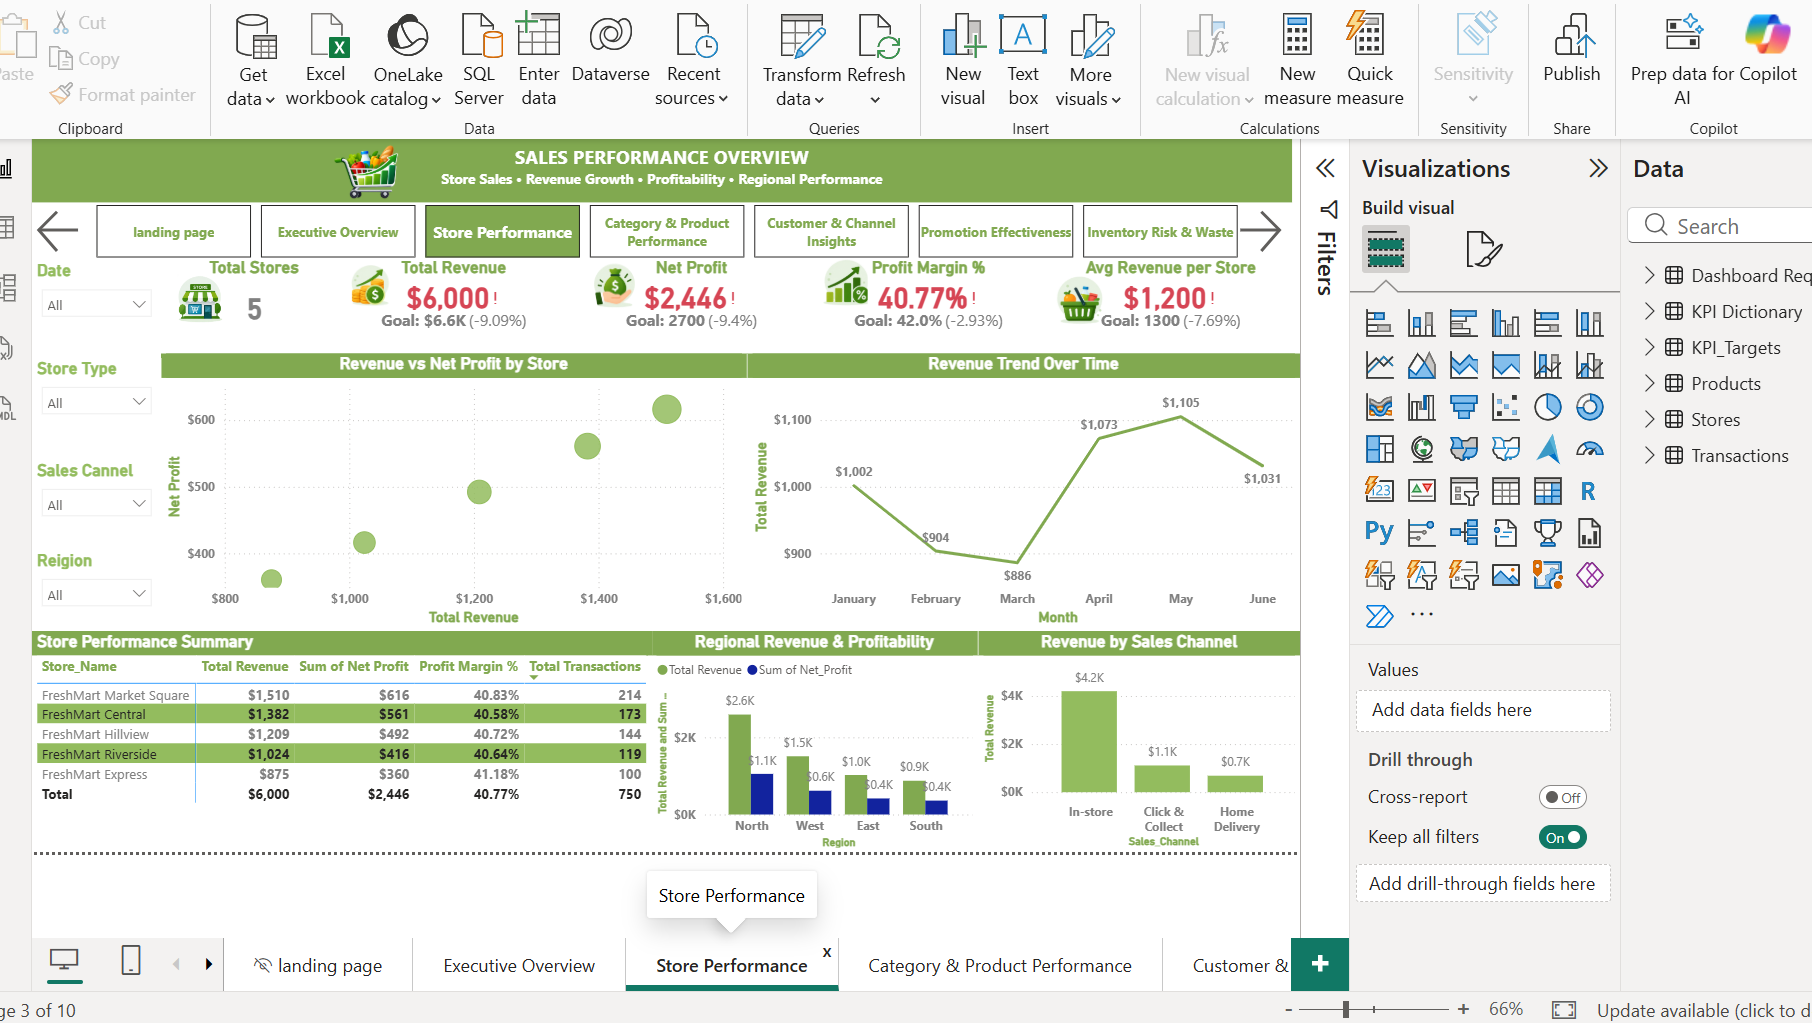

What the dashboard file says about the page in this screenshot:
{"tool":"powerbi","page":{"name":"Store Performance","canvas":[1280,720],"ordinal":2},"visuals":[{"type":"textbox","box":[0,0,1271.9,63.8],"z":0},{"type":"kpi","title":"Total Stores","fields":{"Indicator":["Dashboard Requirements.Total Stores"],"TrendLine":["Transactions.Date.Variation.Date Hierarchy.Year"]},"box":[142.8,120,164.1,83.6],"z":1000},{"type":"kpi","title":"Total Revenue","fields":{"Goal":["Dashboard Requirements.Total Revenue Target"],"Indicator":["Dashboard Requirements.Total Revenue"],"TrendLine":["Transactions.Date.Variation.Date Hierarchy.Year"]},"box":[307,120,237.1,83.6],"z":2000},{"type":"kpi","title":"Net Profit","fields":{"Goal":["Dashboard Requirements.Net Profit Target"],"Indicator":["Sum(Transactions.Net_Profit)"],"TrendLine":["Transactions.Date.Variation.Date Hierarchy.Year"]},"box":[544,120,244.7,83.6],"z":3000},{"type":"kpi","title":"Profit Margin % ","fields":{"Goal":["Dashboard Requirements.Profit Margin Target"],"Indicator":["Dashboard Requirements.Profit Margin %"],"TrendLine":["Transactions.Date.Variation.Date Hierarchy.Year"]},"box":[788.7,120,232.5,83.6],"z":4000},{"type":"kpi","title":"Avg Revenue per Store","fields":{"Goal":["Dashboard Requirements.Average Revenue per Store Target"],"Indicator":["Dashboard Requirements.Average Revenue per Store"],"TrendLine":["Transactions.Date.Variation.Date Hierarchy.Year"]},"box":[1021.2,120,258.3,83.6],"z":5000},{"type":"clusteredColumnChart","title":"Regional Revenue & Profitability","fields":{"Category":["Stores.Region"],"Y":["Dashboard Requirements.Total Revenue","Sum(Transactions.Net_Profit)"]},"box":[626,496.6,329,223.9],"z":6000},{"type":"clusteredColumnChart","title":"Revenue by Sales Channel","fields":{"Category":["Transactions.Sales_Channel"],"Y":["Dashboard Requirements.Total Revenue"]},"box":[955.1,496.6,324.4,222.4],"z":7000},{"type":"lineChart","title":"Revenue Trend Over Time","fields":{"Category":["Transactions.Date.Variation.Date Hierarchy.Month"],"Y":["Dashboard Requirements.Total Revenue"]},"box":[721.8,215.8,557.7,278.1],"z":8000},{"type":"scatterChart","title":"Revenue vs Net Profit by Store","fields":{"Category":["Stores.Store_Name"],"Size":["Dashboard Requirements.Total Transactions"],"X":["Dashboard Requirements.Total Revenue"],"Y":["Sum(Transactions.Net_Profit)"]},"box":[130.7,215.8,591.1,278.1],"z":9000},{"type":"pivotTable","title":"Store Performance Summary","fields":{"Rows":["Stores.Store_Name"],"Values":["Dashboard Requirements.Total Revenue","Sum(Transactions.Net_Profit)","Dashboard Requirements.Profit Margin %","Dashboard Requirements.Total Transactions"]},"box":[0,496.6,626,222.4],"z":10000},{"type":"slicer","title":"Reigion","fields":{"Values":["Stores.Region"]},"box":[0,414.9,130.7,79],"z":11000},{"type":"slicer","title":"Store Type","fields":{"Values":["Stores.Store_Type"]},"box":[0,220.3,130.7,74.5],"z":12000},{"type":"slicer","title":"Sales Cannel","fields":{"Values":["Transactions.Sales_Channel"]},"box":[0,323.7,130.7,74.5],"z":13000},{"type":"slicer","title":"Date","fields":{"Values":["Transactions.Date.Variation.Date Hierarchy.Year","Transactions.Date.Variation.Date Hierarchy.Quarter","Transactions.Date.Variation.Date Hierarchy.Month","Transactions.Date.Variation.Date Hierarchy.Day"]},"box":[0,123.1,130.7,80.5],"z":14000},{"type":"pageNavigator","box":[65.5,67,1157.6,53.3],"z":15000},{"type":"image","box":[142.8,135.2,53.2,54.7],"z":16000},{"type":"image","box":[307,127.6,65.3,42.5],"z":17000},{"type":"image","box":[544,123.1,82.1,50.1],"z":18000},{"type":"image","box":[788.7,120,56.2,50.1],"z":19000},{"type":"image","box":[1025.7,136.8,62.3,53.2],"z":20000},{"type":"image","box":[278.1,0,123.1,65.3],"z":21000},{"type":"actionButton","box":[1212.5,67,67,53.3],"z":22000},{"type":"actionButton","box":[0,67,65.5,53.3],"z":23000}]}

Visuals, with their boxes on the page's 1280x720 design canvas (x1, y1, x2, y2). These are canvas units, not pixel positions in the 1812x1023 screenshot, which may show the page scaled, cropped or inside an application window:
textbox: [x1=0, y1=0, x2=1272, y2=64]
"Total Stores" kpi: [x1=143, y1=120, x2=307, y2=204]
"Total Revenue" kpi: [x1=307, y1=120, x2=544, y2=204]
"Net Profit" kpi: [x1=544, y1=120, x2=789, y2=204]
"Profit Margin % " kpi: [x1=789, y1=120, x2=1021, y2=204]
"Avg Revenue per Store" kpi: [x1=1021, y1=120, x2=1280, y2=204]
"Regional Revenue & Profitability" clusteredColumnChart: [x1=626, y1=497, x2=955, y2=720]
"Revenue by Sales Channel" clusteredColumnChart: [x1=955, y1=497, x2=1280, y2=719]
"Revenue Trend Over Time" lineChart: [x1=722, y1=216, x2=1280, y2=494]
"Revenue vs Net Profit by Store" scatterChart: [x1=131, y1=216, x2=722, y2=494]
"Store Performance Summary" pivotTable: [x1=0, y1=497, x2=626, y2=719]
"Reigion" slicer: [x1=0, y1=415, x2=131, y2=494]
"Store Type" slicer: [x1=0, y1=220, x2=131, y2=295]
"Sales Cannel" slicer: [x1=0, y1=324, x2=131, y2=398]
"Date" slicer: [x1=0, y1=123, x2=131, y2=204]
pageNavigator: [x1=66, y1=67, x2=1223, y2=120]
image: [x1=143, y1=135, x2=196, y2=190]
image: [x1=307, y1=128, x2=372, y2=170]
image: [x1=544, y1=123, x2=626, y2=173]
image: [x1=789, y1=120, x2=845, y2=170]
image: [x1=1026, y1=137, x2=1088, y2=190]
image: [x1=278, y1=0, x2=401, y2=65]
actionButton: [x1=1212, y1=67, x2=1280, y2=120]
actionButton: [x1=0, y1=67, x2=66, y2=120]
